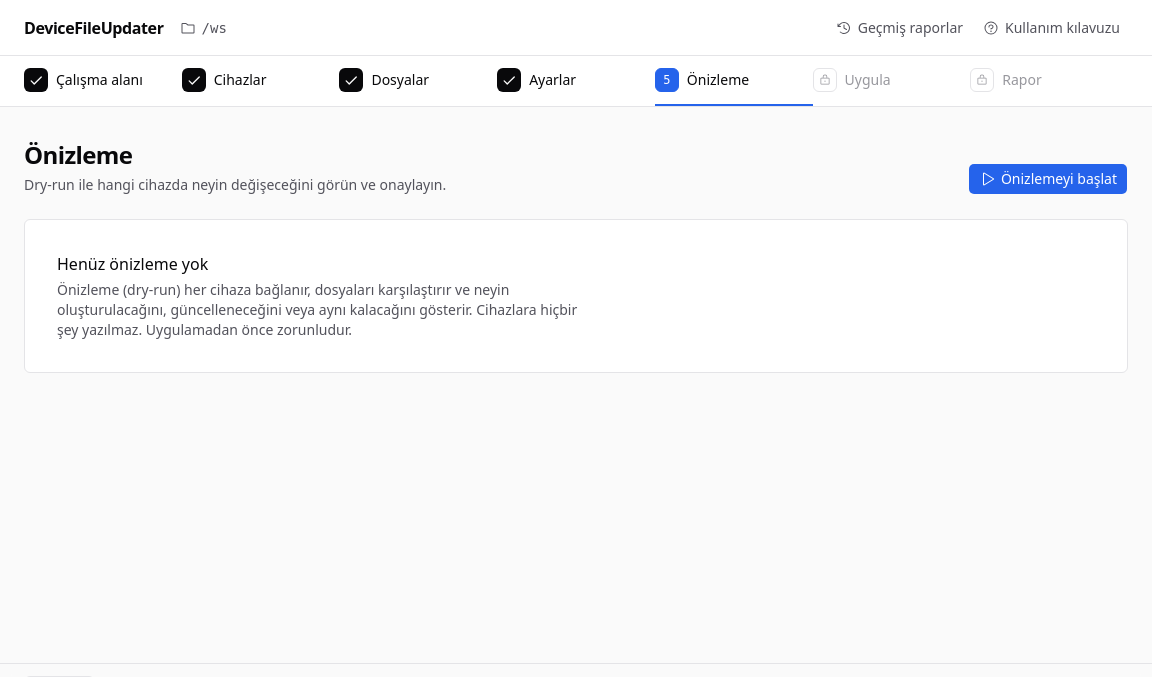
Test case: App › opens the usage guide from the top bar and keeps it without redirecting
Click the link "Kullanım kılavuzu": x=1052, y=28 [975, 14, 1128, 42]
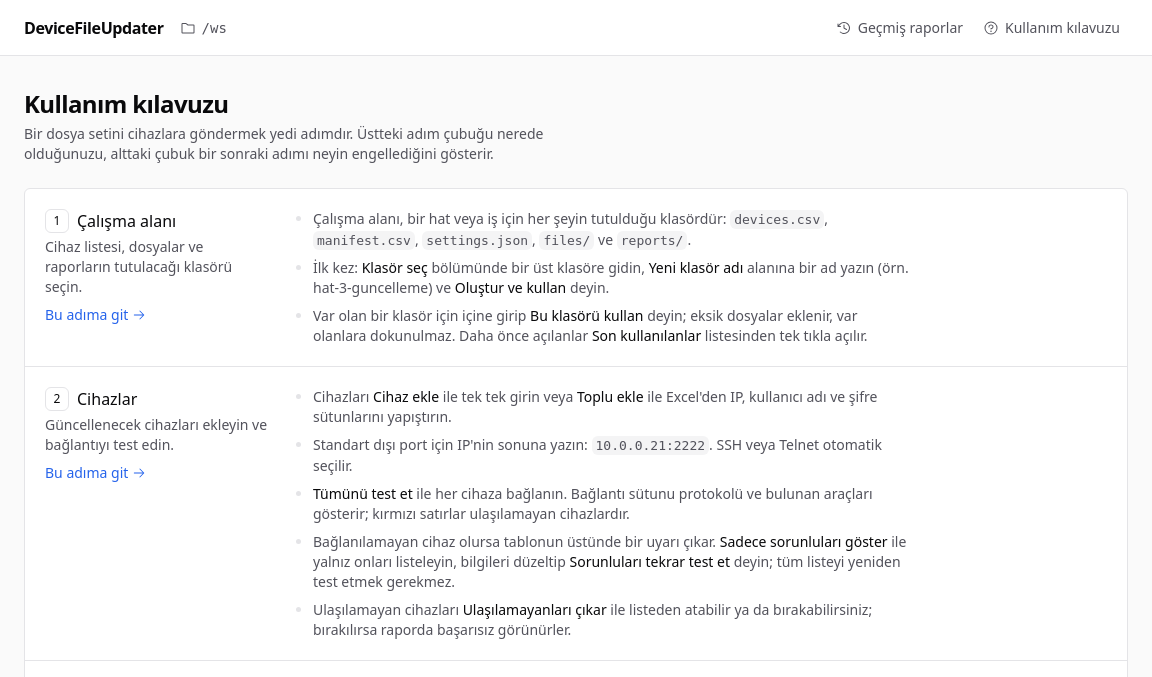
Expected: the heading "Kullanım kılavuzu" is shown, [24, 87, 228, 120]
Expected: the number of links "Bu adıma git" is 7
